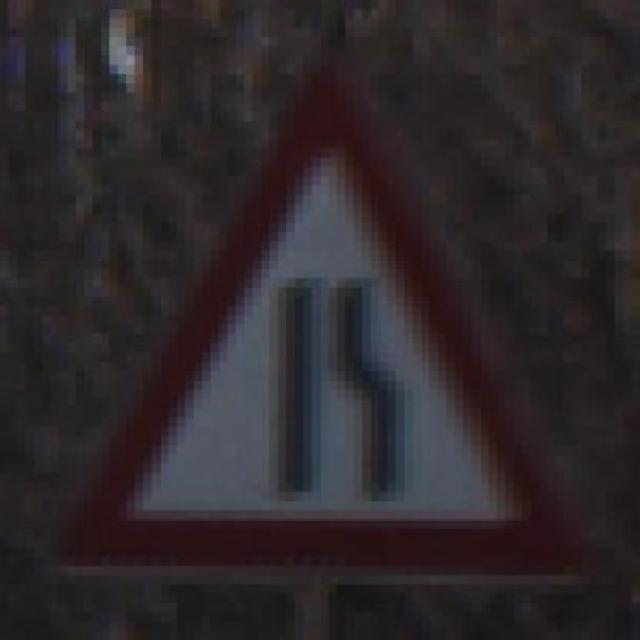-Road narrows on right: (59, 65, 598, 584)
